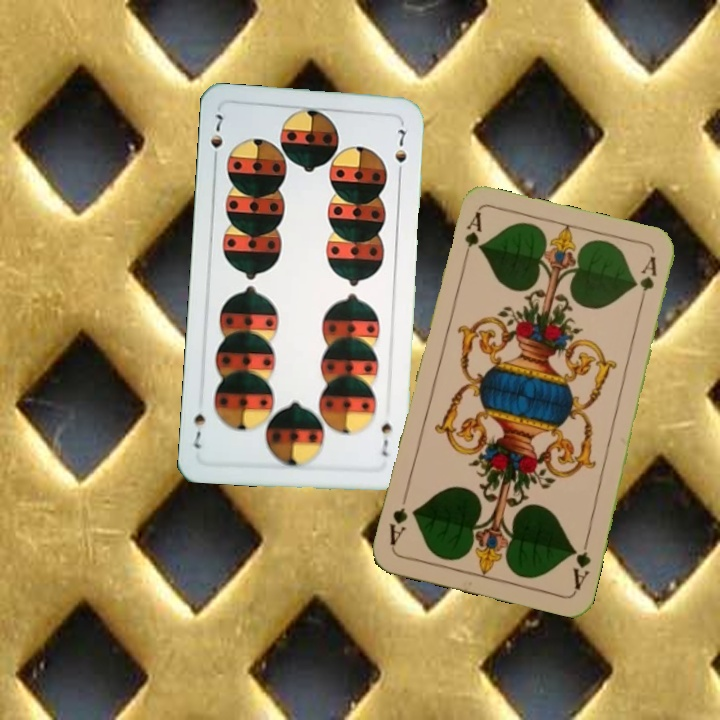GA: (458, 209, 484, 267), (569, 534, 594, 593)
S7: (206, 110, 226, 167), (377, 418, 394, 459)
